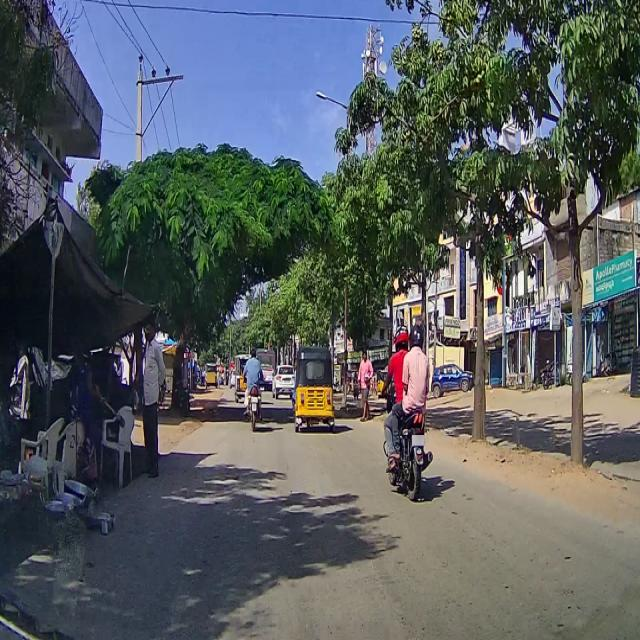auto ahead at: (291, 341, 342, 436), (237, 385, 270, 435)
chair ahead at: (18, 419, 66, 503), (102, 402, 134, 491)
motorcycle ahead at: (377, 400, 439, 503)
person ahead at: (139, 314, 169, 487)
